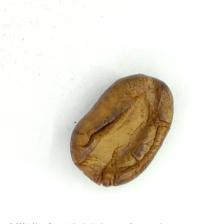NG: (74, 81, 164, 182)
